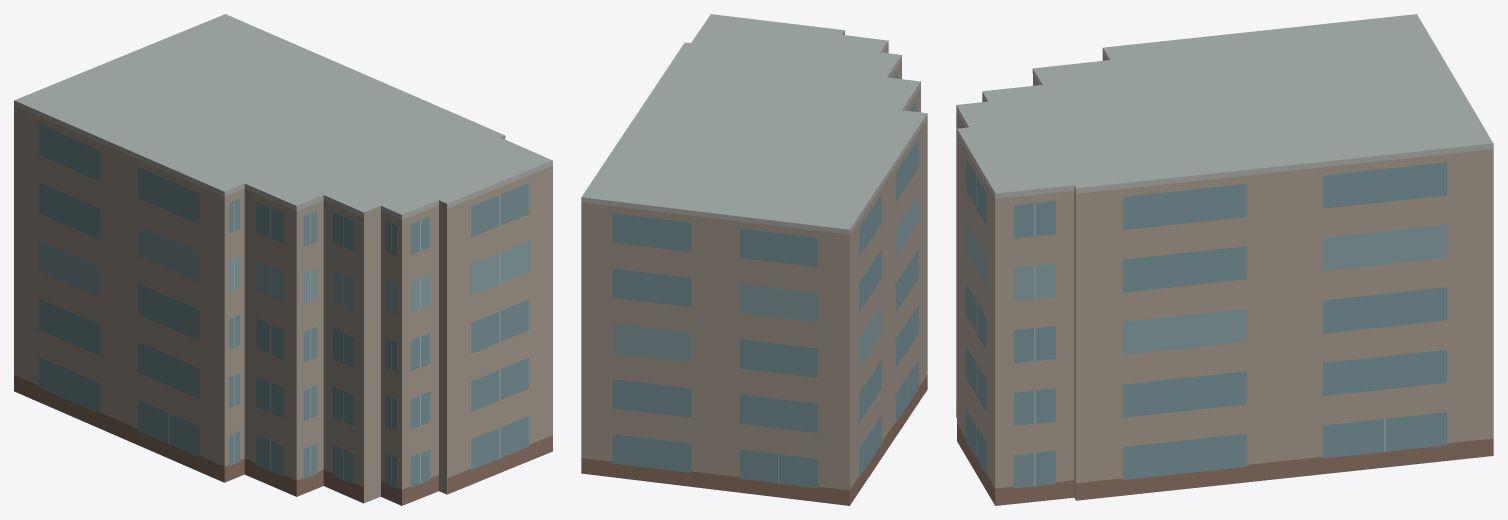
File: survey-upis-32716189.glb
The picture shows the model from 3 angles, left to right: view 1: azimuth 30°, elevation 25°; view 2: azimuth 150°, elevation 25°; view 3: azimuth 270°, elevation 25°; orthographic projection. The views are drawn at different scales.
Visible parts, largest first — view 1: survey-upis-32716189.tmp; view 2: survey-upis-32716189.tmp; view 3: survey-upis-32716189.tmp.
Part boxes in pixels (box(x1,y1,x2,y2)): survey-upis-32716189.tmp: box(14, 14, 552, 505); survey-upis-32716189.tmp: box(581, 14, 927, 505); survey-upis-32716189.tmp: box(956, 14, 1493, 505).
Size of the model in its own units: 16.76 by 13.6 by 21.2.
